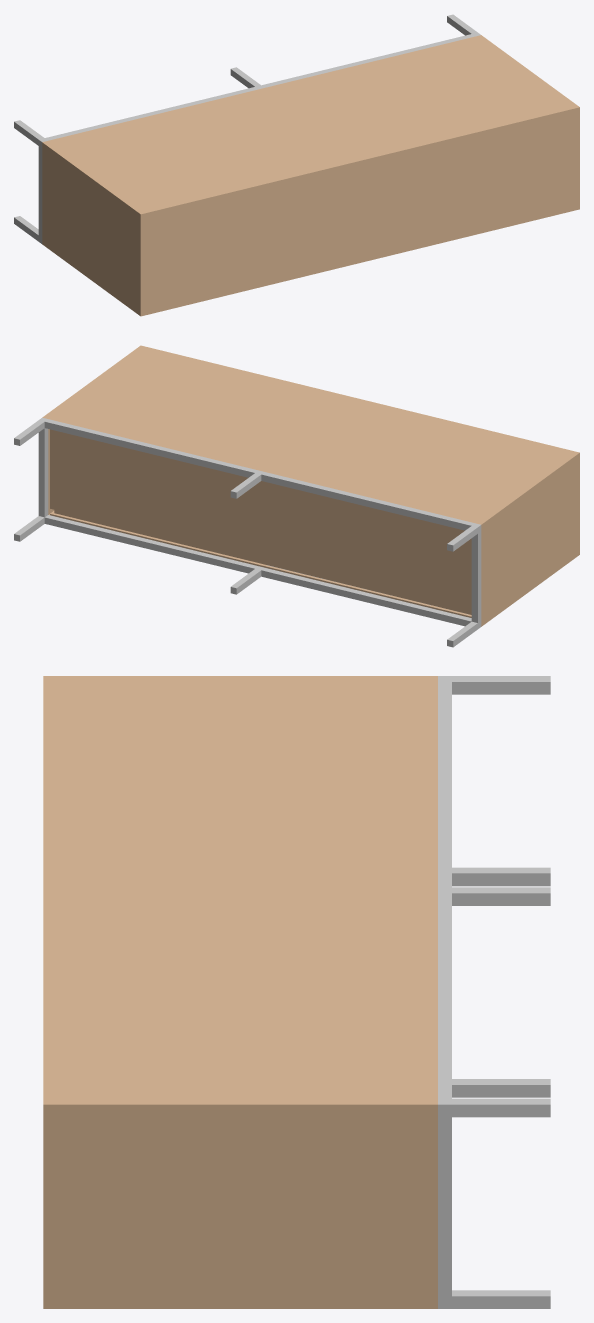
3 renders of one model, top to bottom at view 1: azimuth 30°, elevation 25°; view 2: azimuth 150°, elevation 25°; view 3: azimuth 270°, elevation 25°, orthographic. The views are drawn at different scales.
Size of the model in its own units: 120 by 26.81 by 59.87.
